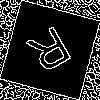R: (25, 25, 79, 83)
